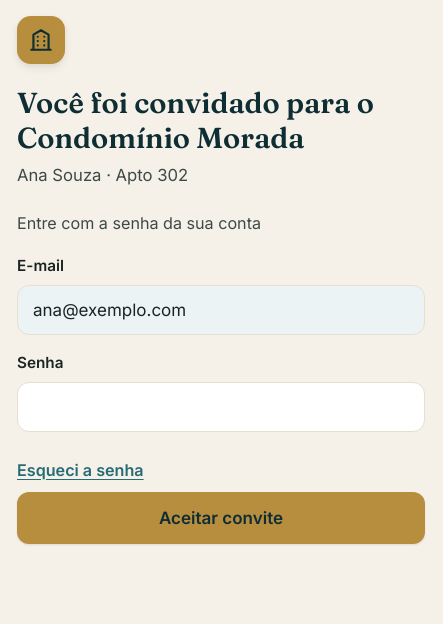
Scenario: AcceptInviteScreen › a invalid-input failure on accept is explained
Step 1. Type "minha-senha" into the password field labelled "Senha" → (221, 407), box [17,382,425,432]
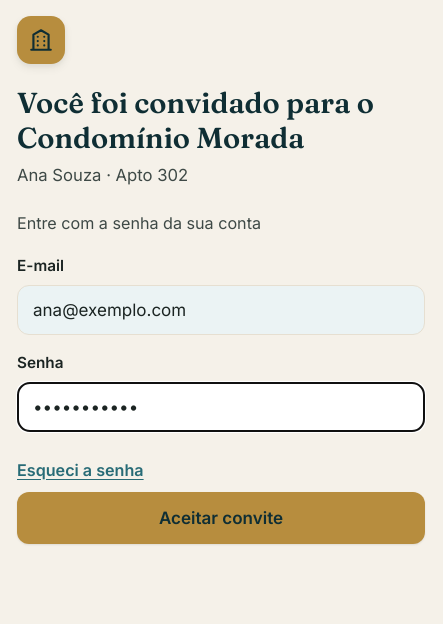
Step 2. Click the button "Aceitar convite" → (221, 518), box [17,492,425,544]
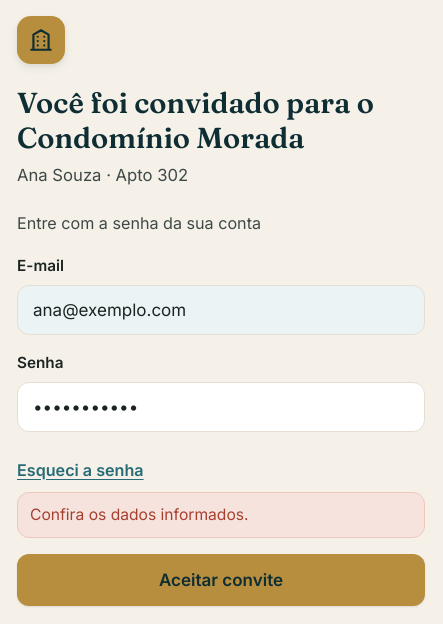
Expected: the message reads "Confira os dados informados.", [30,505,248,524]
